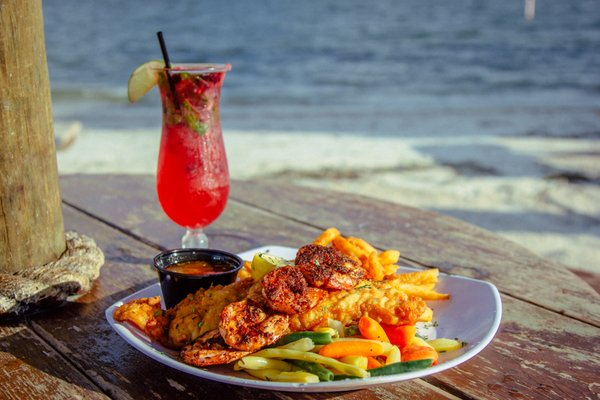sushi: (154, 248, 244, 310)
